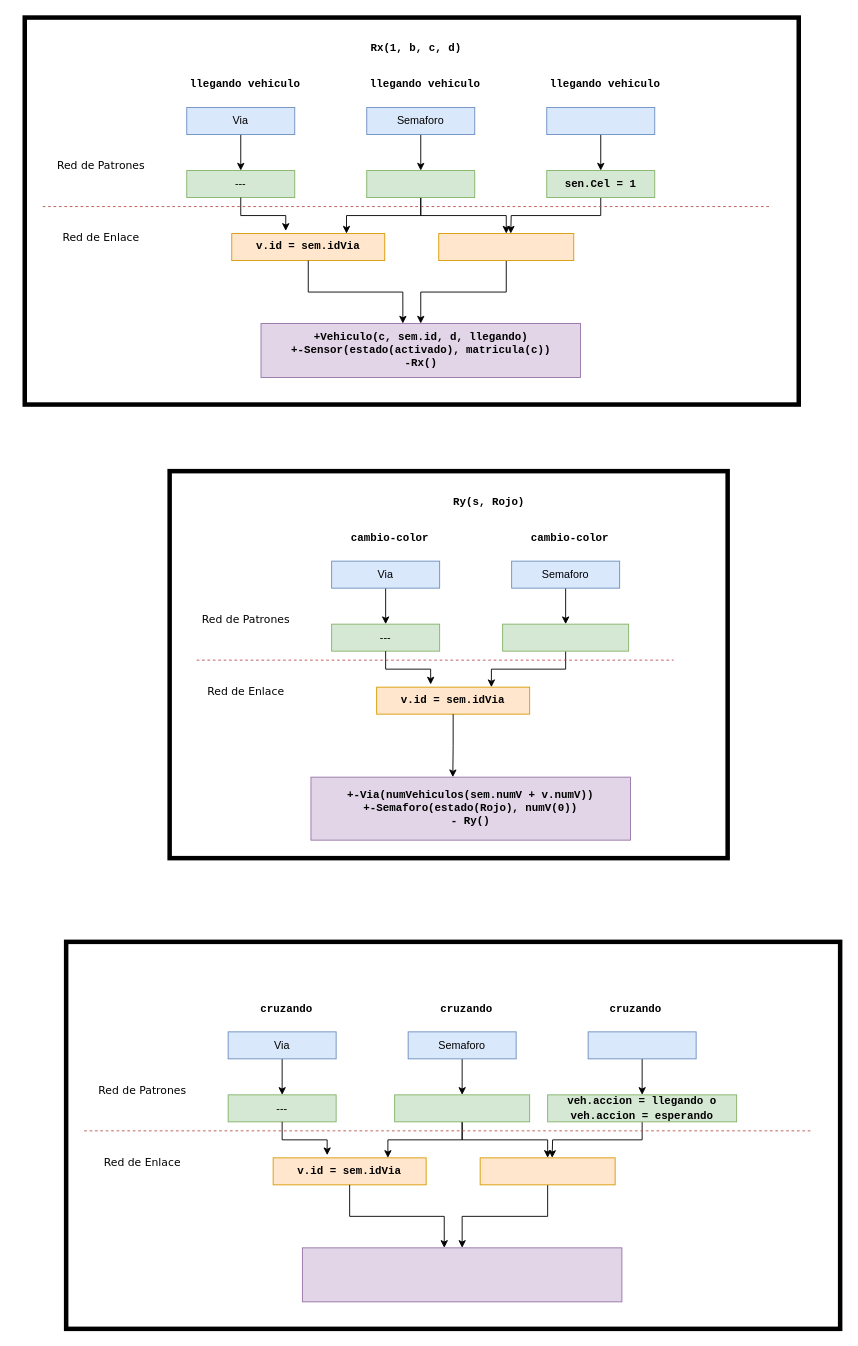
The diagram is 858 pixels wide and 1346 high, and some of its shapes have lost their labels. The shapes that lost their labels are listed below. From the top down, each one's centre as x and y in pixels, then its label:
At (x=600, y=121): "Sensor".
At (x=420, y=184): "sem.id = b".
At (x=506, y=247): "sem.id = sen.idSem".
At (x=565, y=637): "sem.estado = Verde sem.id = s".
At (x=641, y=1045): "Vehiculo".
At (x=462, y=1108): "sem.estado = Verde".
At (x=547, y=1171): "sem.id = veh.idSem".
At (x=462, y=1274): "+-Vehiculo(accion(cruzando)) +-Semaforo(numVeh(numVeh + 1))".
